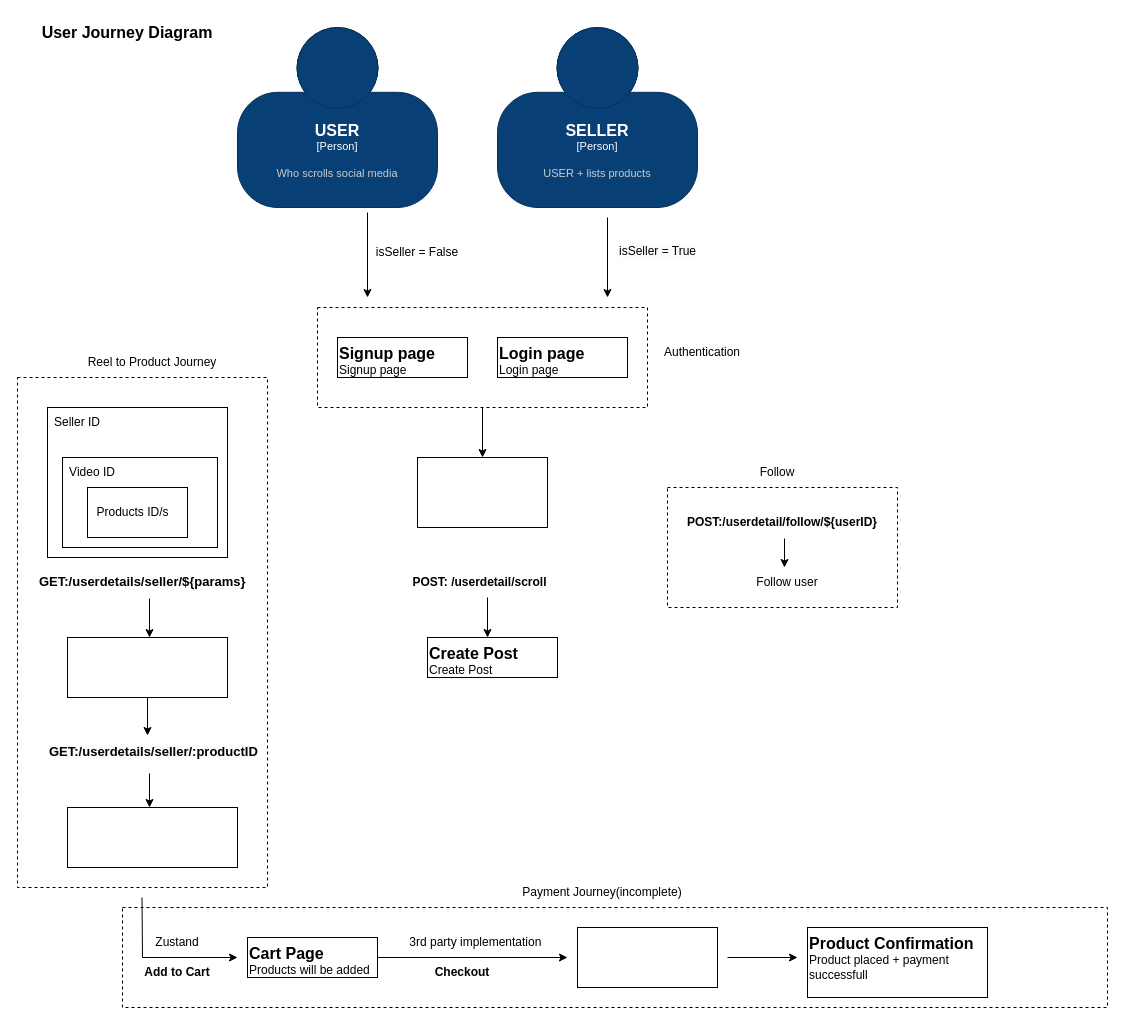
This 1125x1025 diagram has some shape labels left out. Each missing label, with the box of its shape:
Home Page Shows feeds based on FOLLOWING and INTERESTS: (416, 456, 548, 528)
Payment Gateway Address, Payment method, etc: (576, 926, 718, 988)
Products Description Shows produuct respective to the clicked reel: (66, 806, 238, 868)
Products Look Page Shows produuct respective to the clicked reel: (66, 636, 228, 698)
